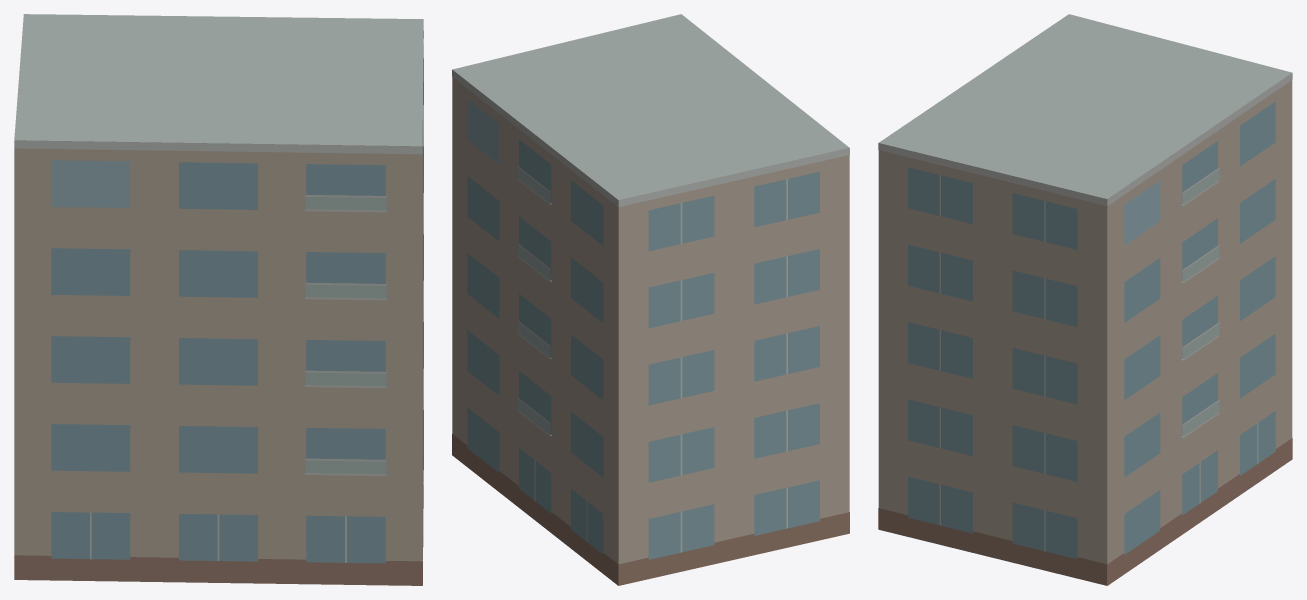
Rendered from survey-upis-32673931.glb.
3 renders of one model, left to right at view 1: azimuth 30°, elevation 25°; view 2: azimuth 150°, elevation 25°; view 3: azimuth 270°, elevation 25°, orthographic. The views are drawn at different scales.
Visible parts, largest first — view 1: survey-upis-32673931.tmp; view 2: survey-upis-32673931.tmp; view 3: survey-upis-32673931.tmp.
Part boxes in pixels (<box>): survey-upis-32673931.tmp: <box>14,14,423,585</box>; survey-upis-32673931.tmp: <box>452,14,849,585</box>; survey-upis-32673931.tmp: <box>878,14,1292,585</box>.
Size of the model in its own units: 13.61 by 13.25 by 12.86.
